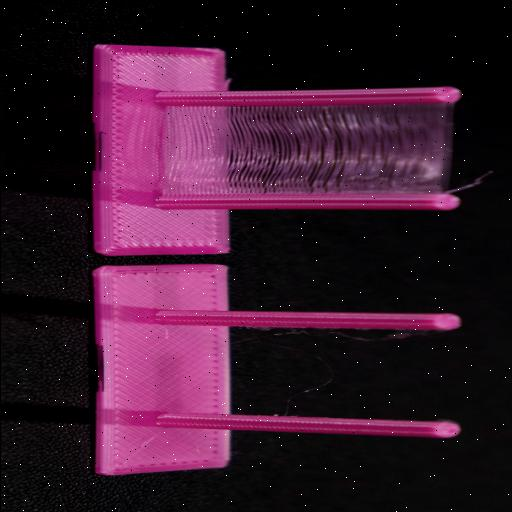stringing: (153, 105, 454, 195), (241, 326, 422, 345)
